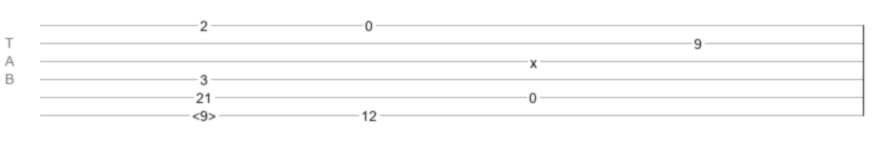0: (365, 18, 373, 28), (529, 90, 537, 100)
12: (361, 108, 377, 118)
2: (200, 18, 208, 28)
21: (196, 90, 212, 100)
3: (200, 72, 208, 82)
9: (694, 36, 702, 46)
harmonic: (192, 108, 216, 118)
x: (530, 55, 537, 63)
